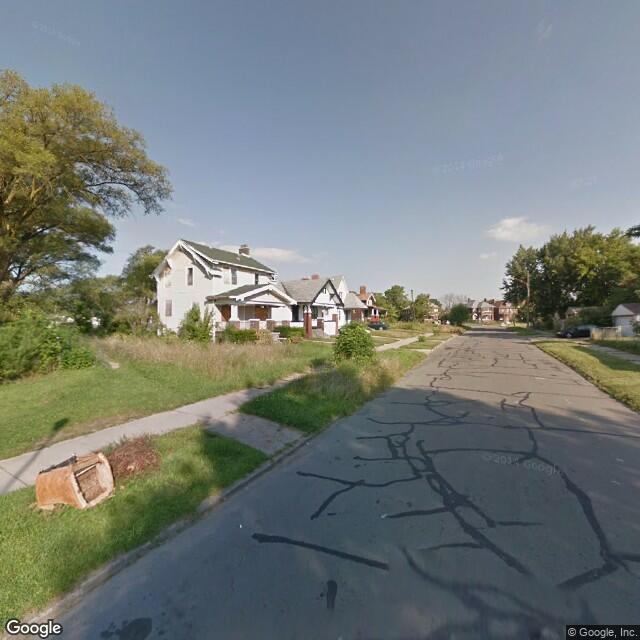litter: (20, 452, 120, 520)
